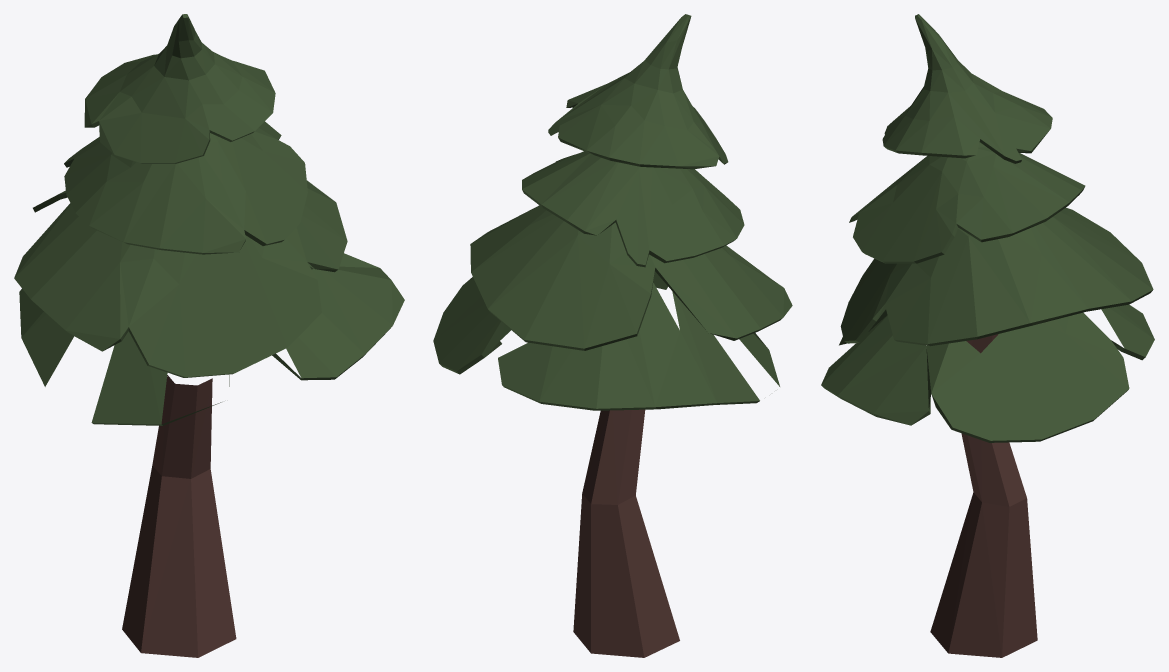
The model's file is PineTree_5.glb.
The picture shows the model from 3 angles, left to right: view 1: azimuth 30°, elevation 25°; view 2: azimuth 150°, elevation 25°; view 3: azimuth 270°, elevation 25°; orthographic projection. The views are drawn at different scales.
Parts seen in each view (by area): view 1: PineTree_5_Cylinder.028; view 2: PineTree_5_Cylinder.028; view 3: PineTree_5_Cylinder.028.
Boxes of the visible parts, x1,y1,x2,y2 form: PineTree_5_Cylinder.028: [14, 14, 404, 657]; PineTree_5_Cylinder.028: [433, 14, 792, 657]; PineTree_5_Cylinder.028: [821, 14, 1154, 657].
Size of the model in its own units: 1.47 by 2.7 by 1.34.
